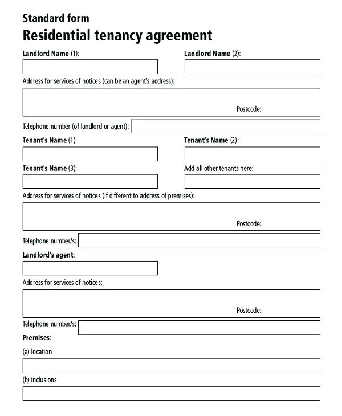textbox: (21, 86, 322, 118), (21, 288, 322, 319), (21, 201, 321, 232), (21, 357, 322, 375), (22, 385, 321, 401), (76, 319, 322, 336), (76, 232, 322, 248), (129, 117, 322, 135), (182, 172, 322, 190), (21, 58, 160, 76), (183, 58, 321, 76), (21, 145, 160, 162), (21, 259, 160, 276), (183, 145, 321, 162), (22, 173, 159, 189)
